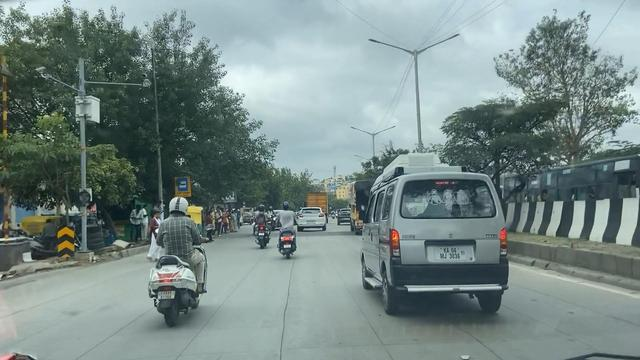LMV: (355, 178, 515, 322), (148, 201, 208, 330)
